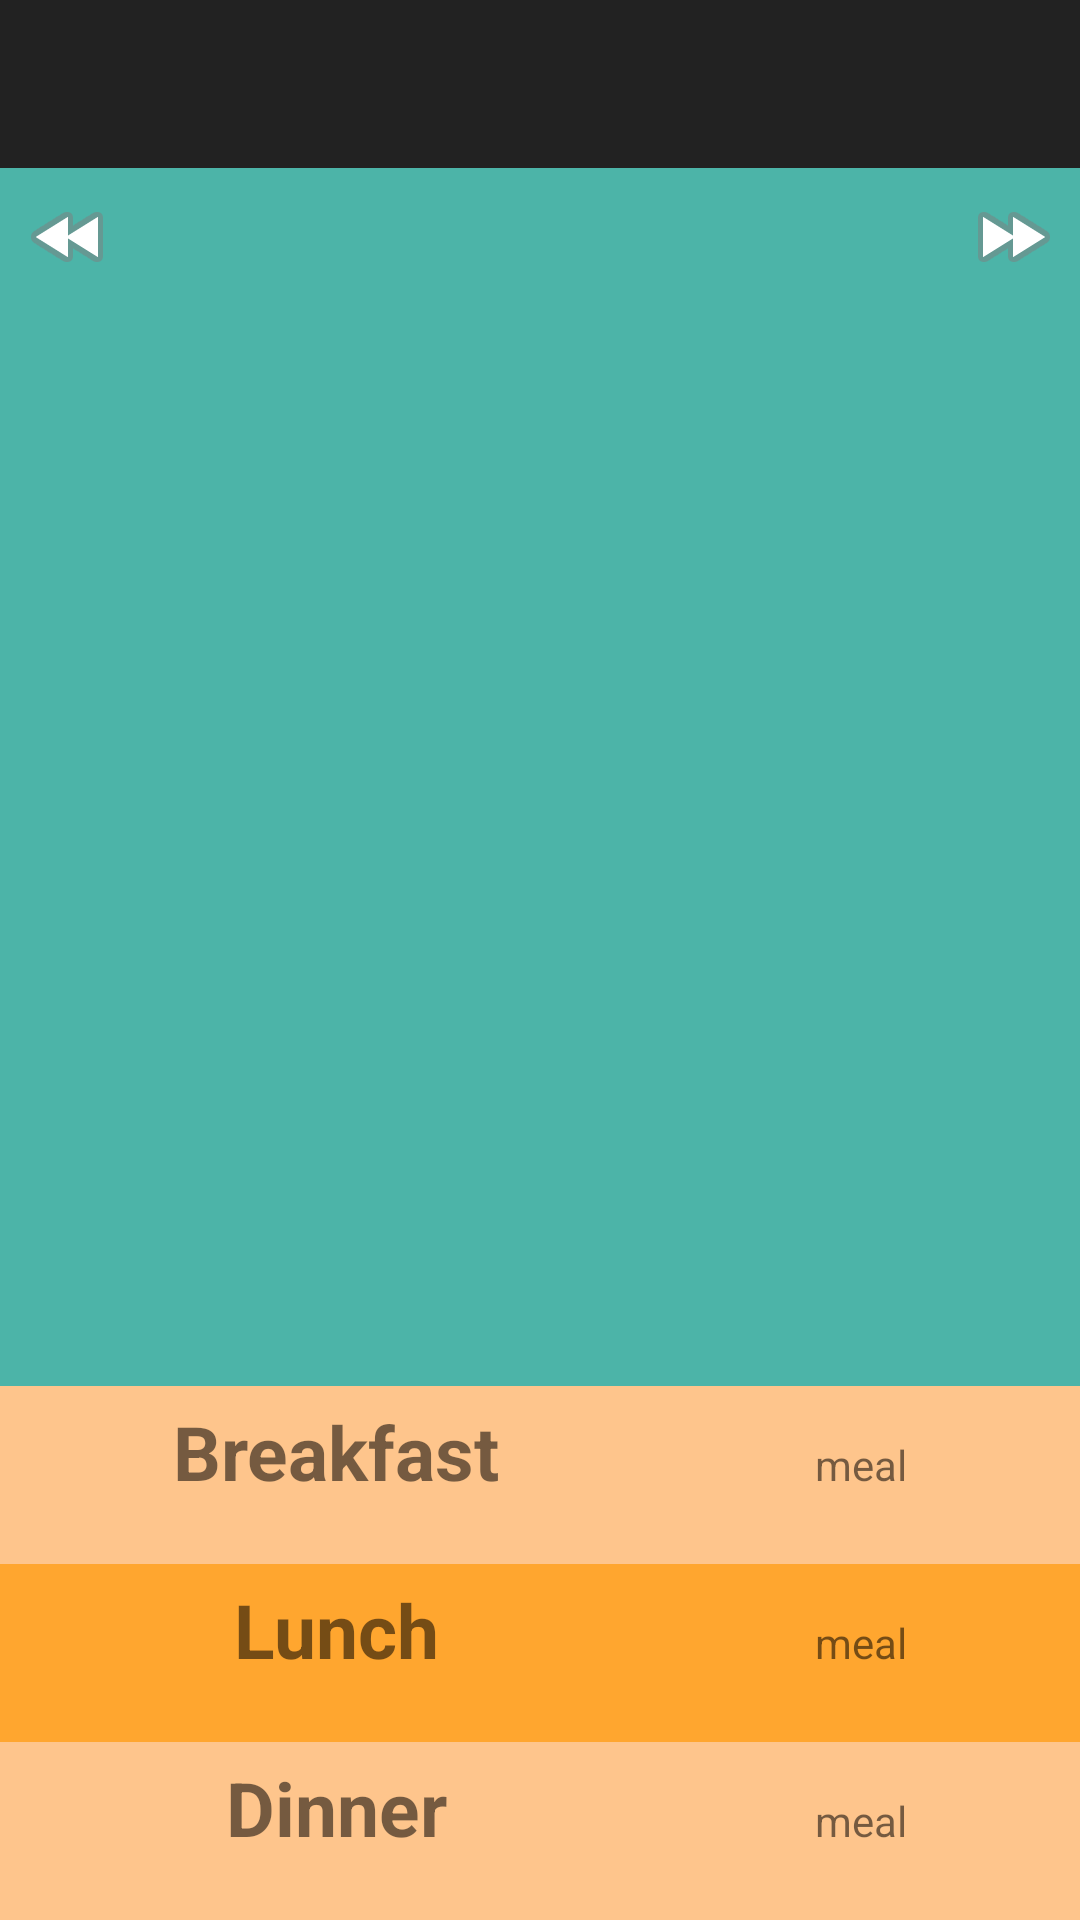

Named icons in this screenshot (1080 x 1920) and their bounding boxes, bbox=(x1, y1, x2, y2):
rew: bbox=(31, 212, 103, 262)
